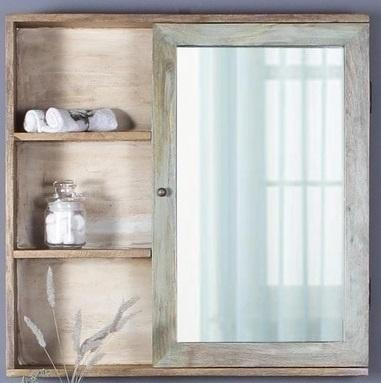cabinet_door: (153, 23, 368, 367)
handle: (155, 185, 171, 199)
